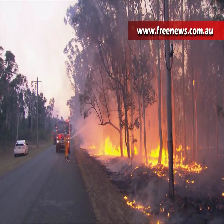fire_h: (147, 143, 207, 172), (95, 136, 138, 157), (126, 201, 153, 215)
fire_l: (155, 172, 167, 178), (186, 178, 194, 183), (159, 207, 165, 212), (123, 196, 128, 200), (156, 220, 160, 224), (220, 192, 224, 196)
